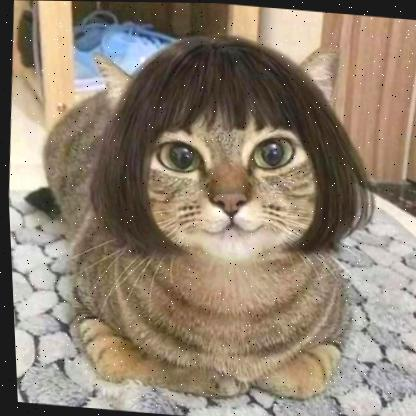cat: (34, 48, 398, 412)
